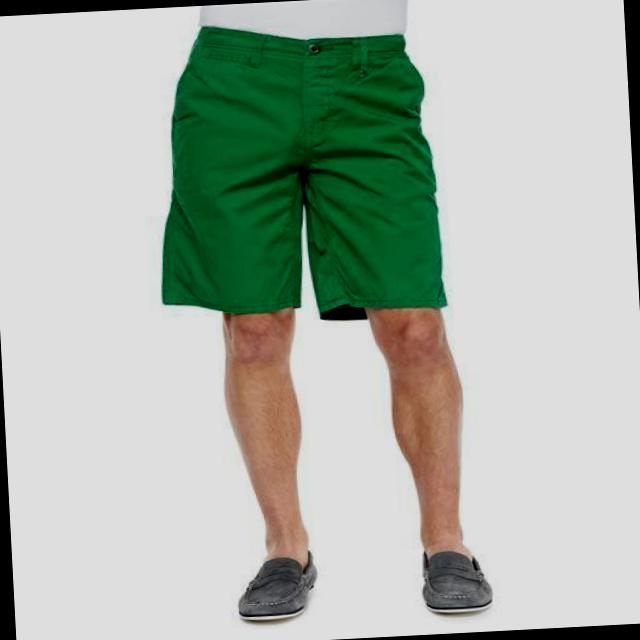short: (146, 10, 448, 330)
